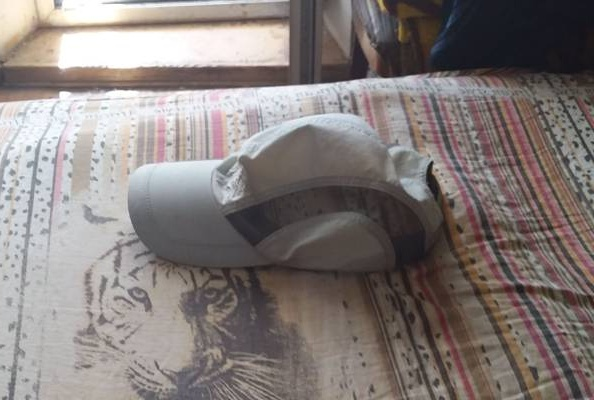Hat: (95, 93, 467, 292)
